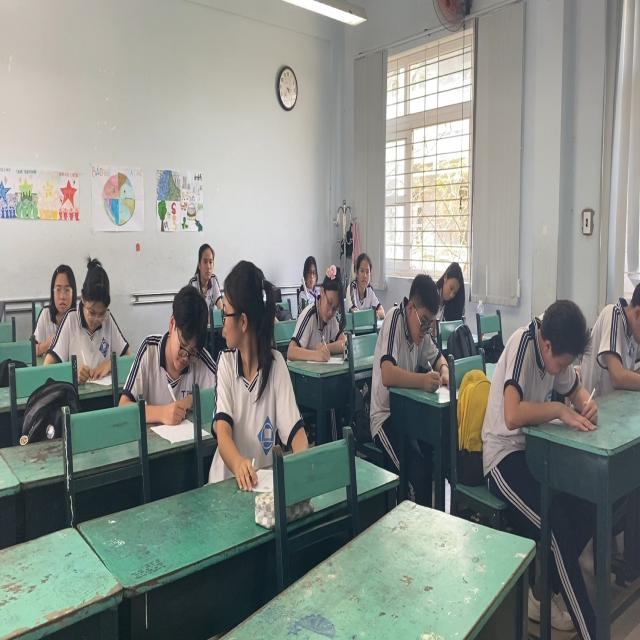cheating: (210, 261, 298, 472)
not_cheating: (496, 292, 601, 436), (140, 281, 208, 402), (384, 279, 449, 392), (68, 254, 127, 357), (315, 268, 352, 346), (428, 247, 467, 319), (46, 257, 82, 330), (190, 240, 224, 309), (348, 251, 381, 316), (294, 244, 321, 291)
